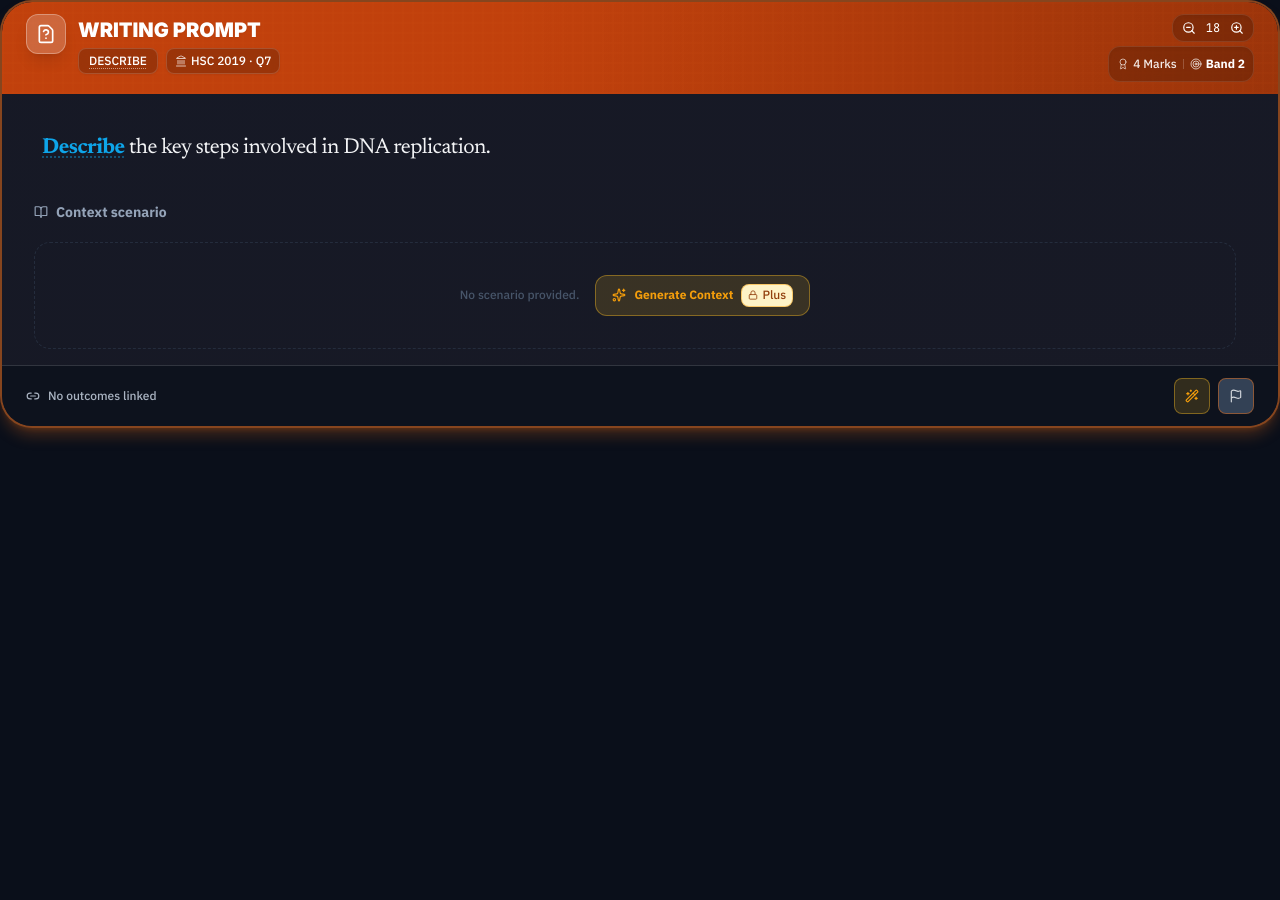
it: past HSC provenance on the question card › shows the paper it came from, and seeds the editor from it
Expected: the text "HSC 2019 · Q7" is shown, [191,53,272,69]
Click the button "HSC 2019 · Q7" at (223, 61), box [166,48,280,74]
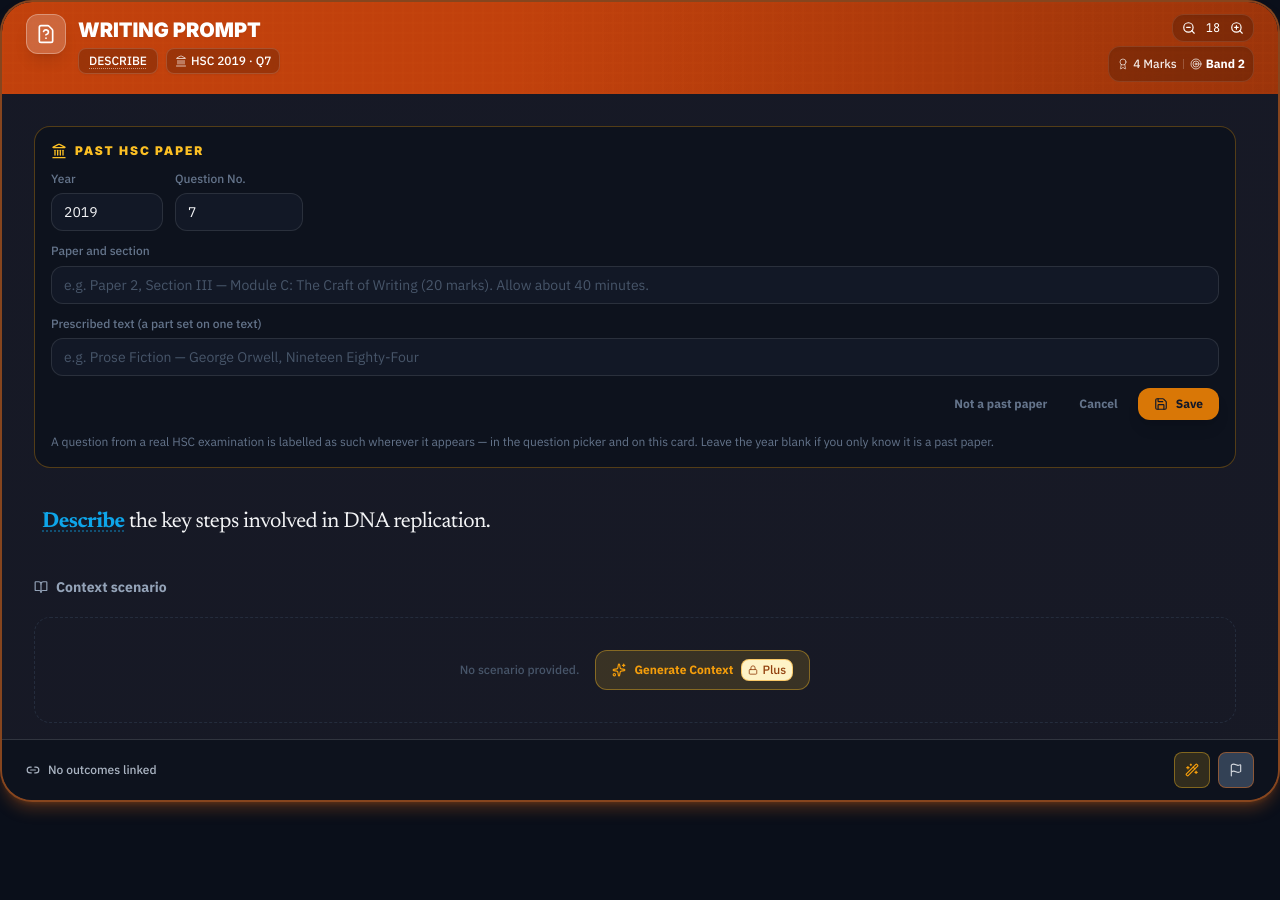
Result: the number field labelled "Year" holds "2019" at [51,193,163,231]
Result: the field labelled "Question No." holds "7" at [175,193,303,231]
